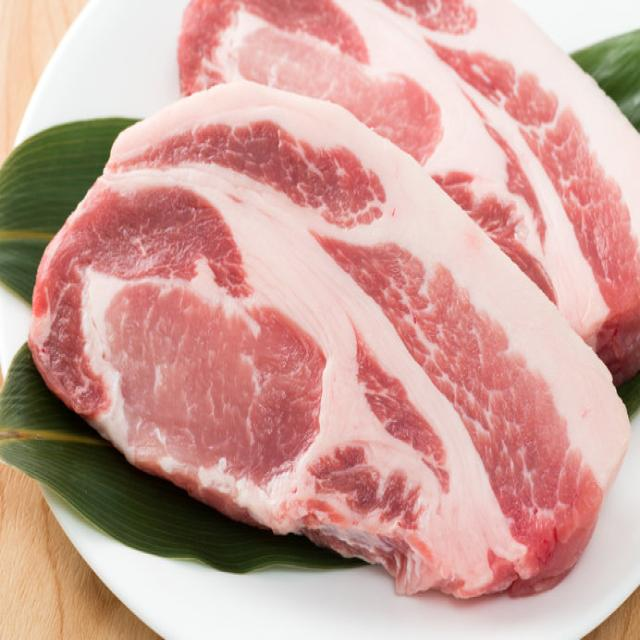NG raw pork,: (13, 90, 640, 623), (172, 0, 640, 385)
